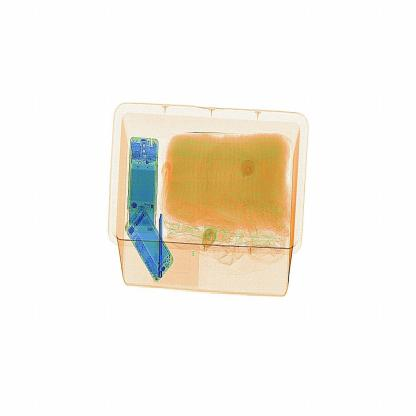pliers: (150, 204, 176, 288)
